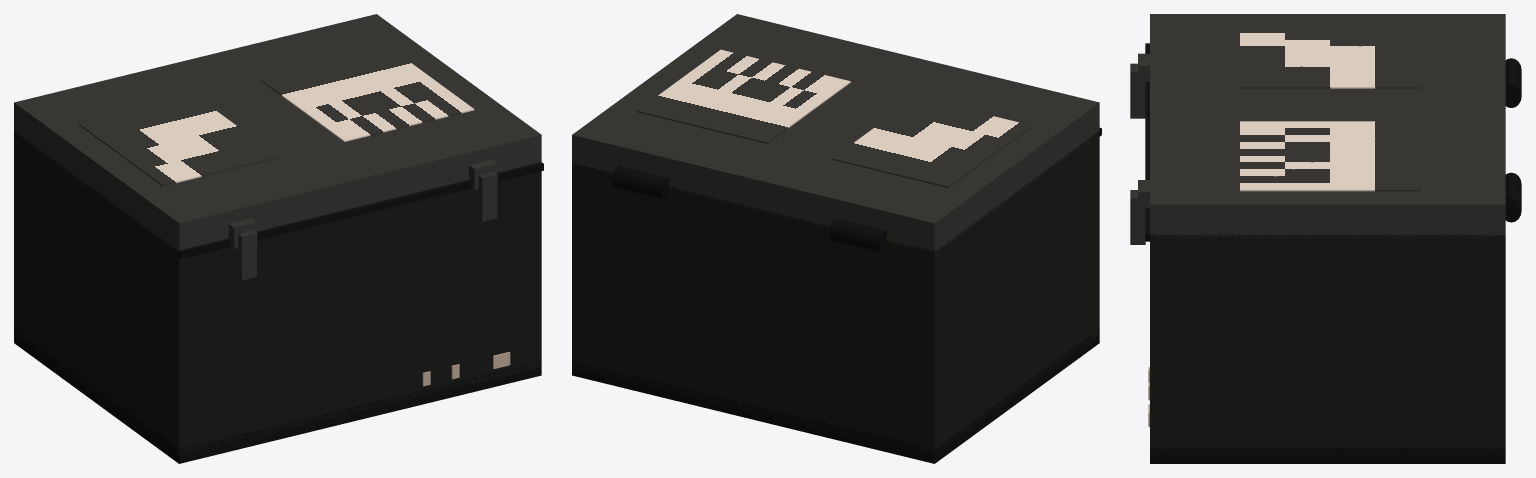
File: CMU3DInheritedCratesWeaponsCloud.glb
The picture shows the model from 3 angles, left to right: view 1: azimuth 30°, elevation 25°; view 2: azimuth 150°, elevation 25°; view 3: azimuth 270°, elevation 25°; orthographic projection. The views are drawn at different scales.
Visible parts, largest first — view 1: front structural wall, separate solid closed lid, side structural wall -1, original ammunition panel lid insert, original rifle silhouette lid insert, bottom structural pan, front lid gasket, side structural wall 1, rear structural wall, latch tongue 0.29, latch tongue -0.29; view 2: rear structural wall, separate solid closed lid, side structural wall -1, original ammunition panel lid insert, original rifle silhouette lid insert, bottom structural pan, front structural wall, side structural wall 1, rear lid hinge 0.2625, rear lid hinge -0.2625; view 3: side structural wall 1, separate solid closed lid, original ammunition panel lid insert, original rifle silhouette lid insert, bottom structural pan, rear structural wall, front structural wall, rear lid hinge -0.2625, rear lid hinge 0.2625, front lid gasket, latch tongue -0.29, latch tongue 0.29 (+1 smaller).
Part boxes in pixels (left/top/right/bottom): front structural wall: left=171, top=171, right=541, bottom=454; separate solid closed lid: left=14, top=14, right=541, bottom=252; side structural wall -1: left=14, top=131, right=192, bottom=454; original ammunition panel lid insert: left=260, top=48, right=474, bottom=141; original rifle silhouette lid insert: left=79, top=95, right=279, bottom=186; bottom structural pan: left=14, top=329, right=541, bottom=463; front lid gasket: left=177, top=162, right=543, bottom=258; side structural wall 1: left=528, top=171, right=541, bottom=369; rear structural wall: left=14, top=131, right=21, bottom=339; latch tongue 0.29: left=475, top=172, right=497, bottom=221; latch tongue -0.29: left=234, top=230, right=256, bottom=280; rear structural wall: left=572, top=163, right=941, bottom=454; separate solid closed lid: left=572, top=14, right=1099, bottom=251; side structural wall -1: left=921, top=136, right=1092, bottom=454; original ammunition panel lid insert: left=637, top=49, right=850, bottom=143; original rifle silhouette lid insert: left=832, top=97, right=1032, bottom=187; bottom structural pan: left=572, top=329, right=1099, bottom=463; front structural wall: left=1092, top=131, right=1099, bottom=339; side structural wall 1: left=572, top=164, right=585, bottom=366; rear lid hinge 0.2625: left=612, top=165, right=669, bottom=200; rear lid hinge -0.2625: left=830, top=219, right=886, bottom=253; side structural wall 1: left=1150, top=235, right=1505, bottom=454; separate solid closed lid: left=1150, top=14, right=1505, bottom=237; original ammunition panel lid insert: left=1240, top=121, right=1420, bottom=191; original rifle silhouette lid insert: left=1240, top=26, right=1420, bottom=88; bottom structural pan: left=1150, top=448, right=1505, bottom=463; rear structural wall: left=1490, top=235, right=1505, bottom=453; front structural wall: left=1150, top=235, right=1165, bottom=453; rear lid hinge -0.2625: left=1505, top=58, right=1521, bottom=107; rear lid hinge 0.2625: left=1505, top=172, right=1521, bottom=222; front lid gasket: left=1145, top=43, right=1154, bottom=241; latch tongue -0.29: left=1130, top=63, right=1145, bottom=118; latch tongue 0.29: left=1130, top=190, right=1145, bottom=244.
Bounding box in the file's own units: 0.875 × 0.558 × 0.759.
6 materials, 2 textured.
